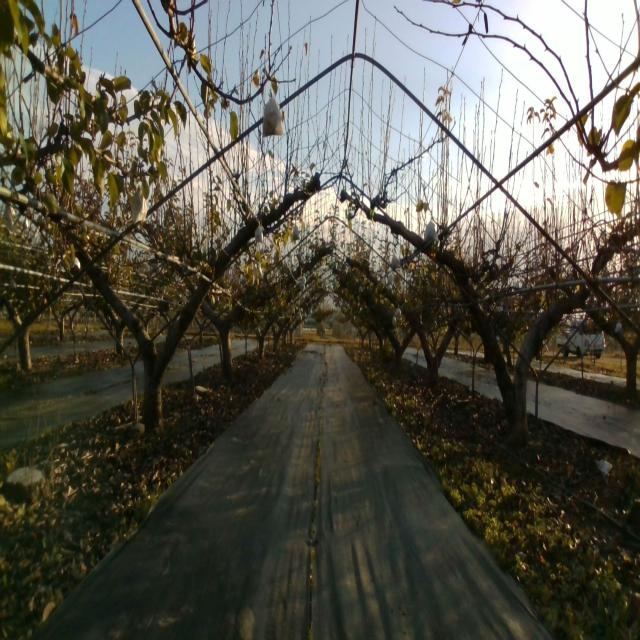pearbags: (262, 88, 284, 137), (130, 197, 148, 226), (424, 220, 438, 243)
